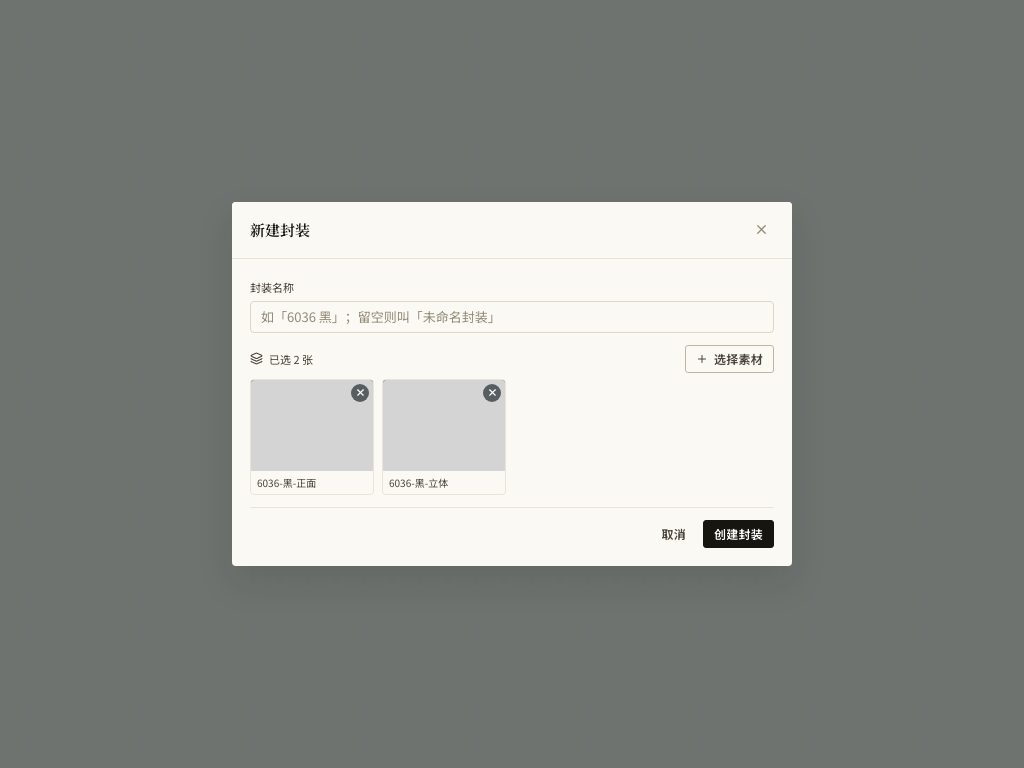
PackCreateModal · 提交 › 失败时错误就地显示、不关弹窗（用户要对着素材核对是哪张）
Click the button "创建封装" at (738, 534), box 703,520 -> 774,548
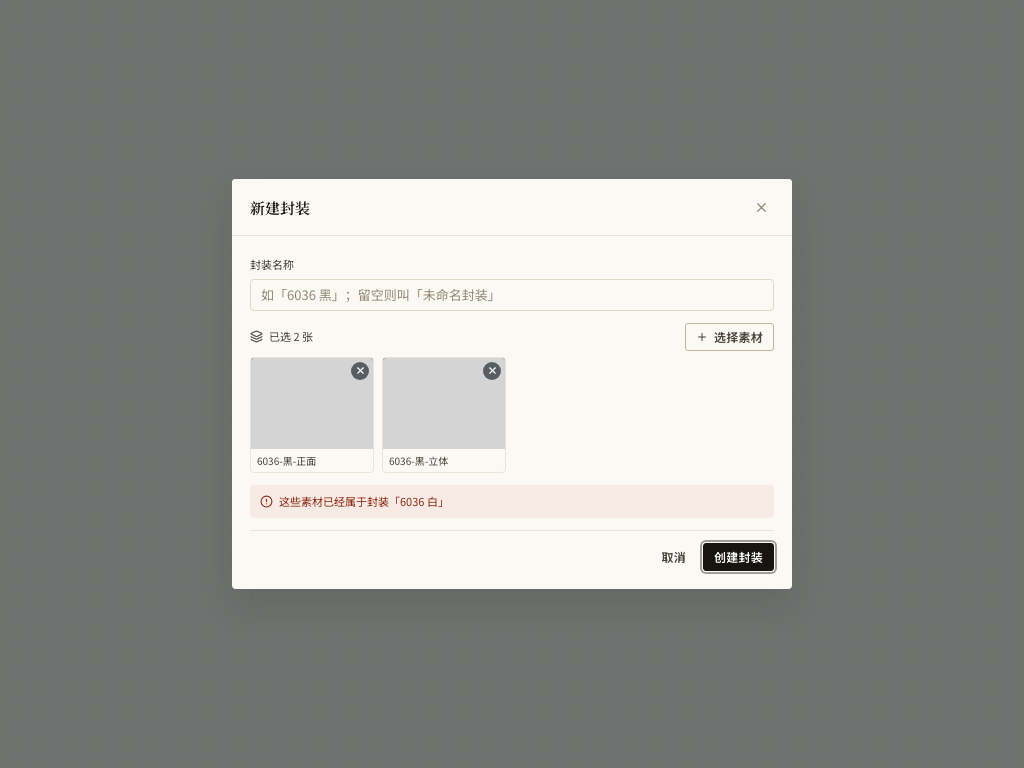
Expected: the text "6036-黑-正面" is shown, 257,453 -> 316,468
Result: the text "这些素材已经属于封装「6036 白」" is shown at 250,485 -> 774,518
